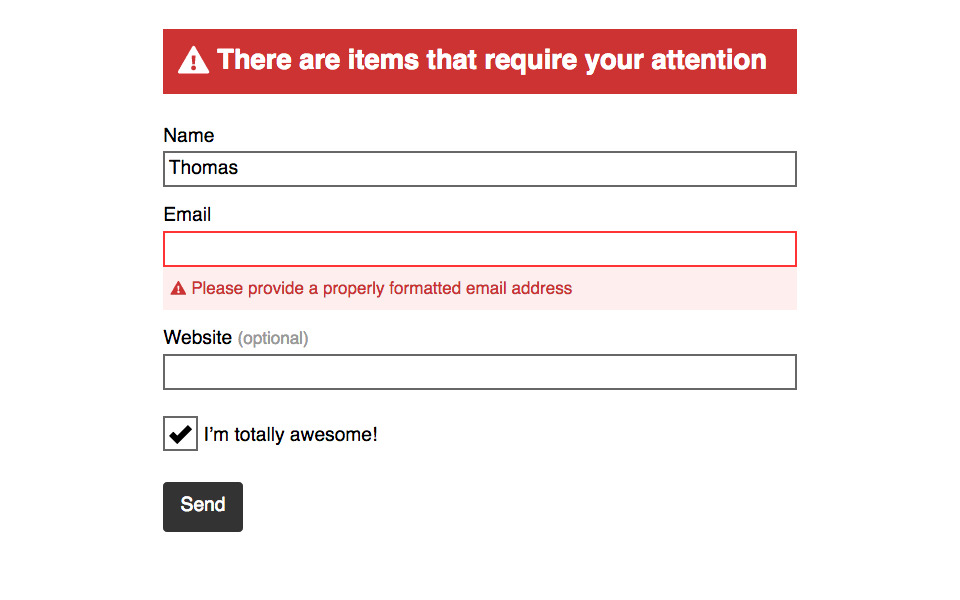error_field: (162, 229, 799, 267)
error_message: (217, 45, 775, 76), (187, 277, 573, 298)
